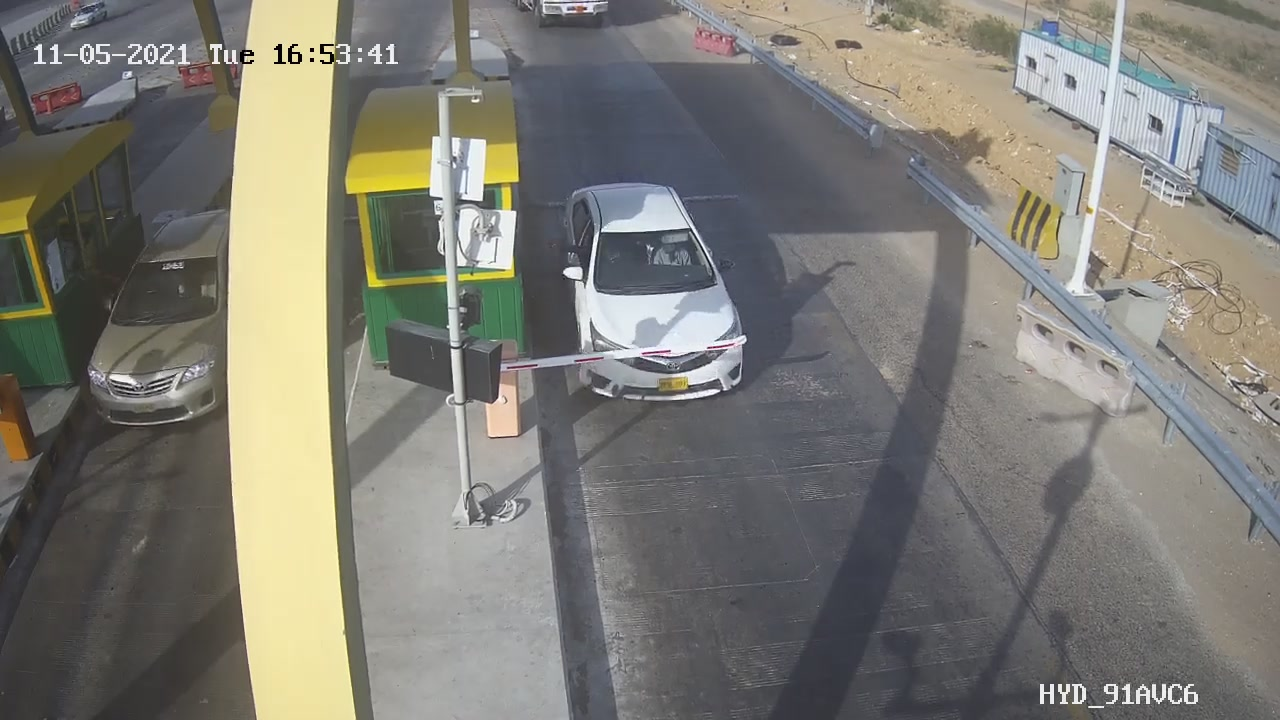F1: (540, 162, 766, 425)
